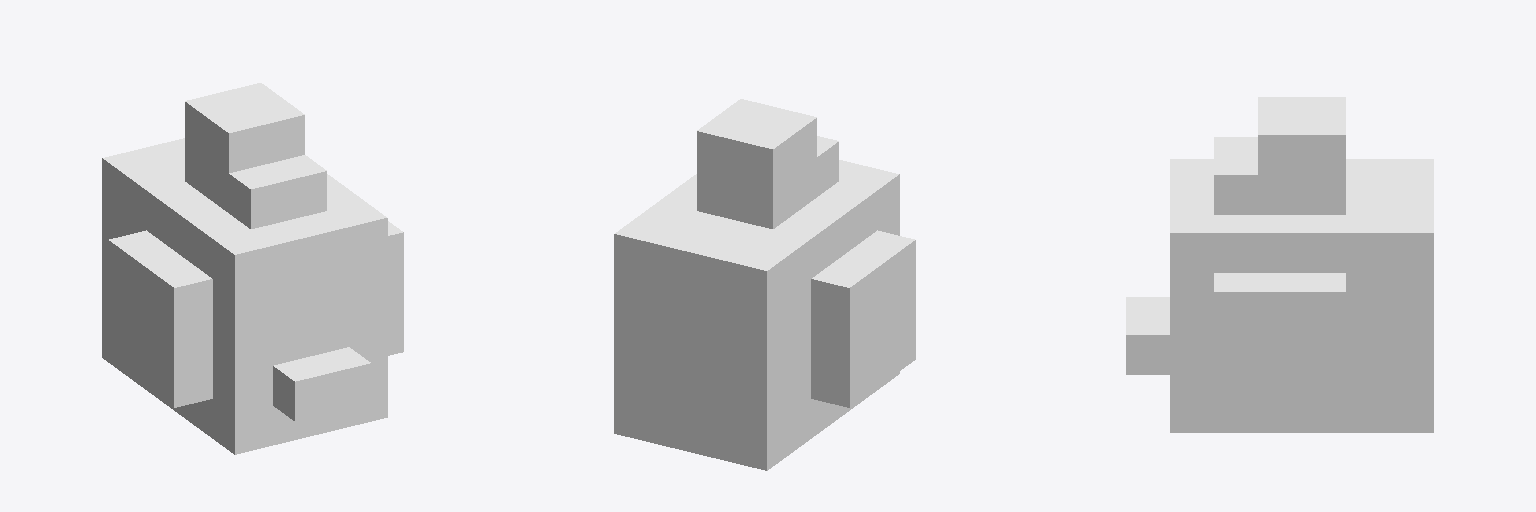
The model's file is gallina2.obj.
The picture shows the model from 3 angles: view 1: azimuth 30°, elevation 25°; view 2: azimuth 150°, elevation 25°; view 3: azimuth 270°, elevation 25°; orthographic projection.
Parts seen in each view (by area): view 1: gallina2; view 2: gallina2; view 3: gallina2.
Boxes of the visible parts, box(x1,y1,x2,y2) form: gallina2: box(102, 83, 403, 454); gallina2: box(614, 99, 915, 470); gallina2: box(1126, 97, 1433, 432).
Size of the model in its own units: 6 by 7 by 7.